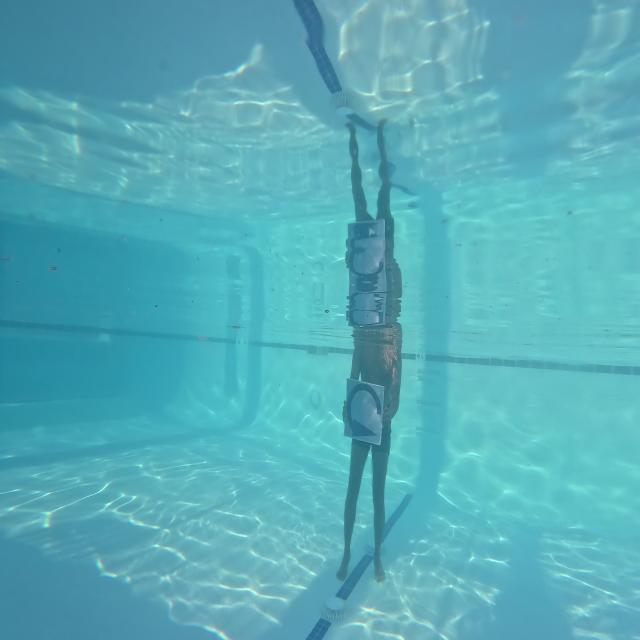blue_side: (344, 380, 392, 452)
